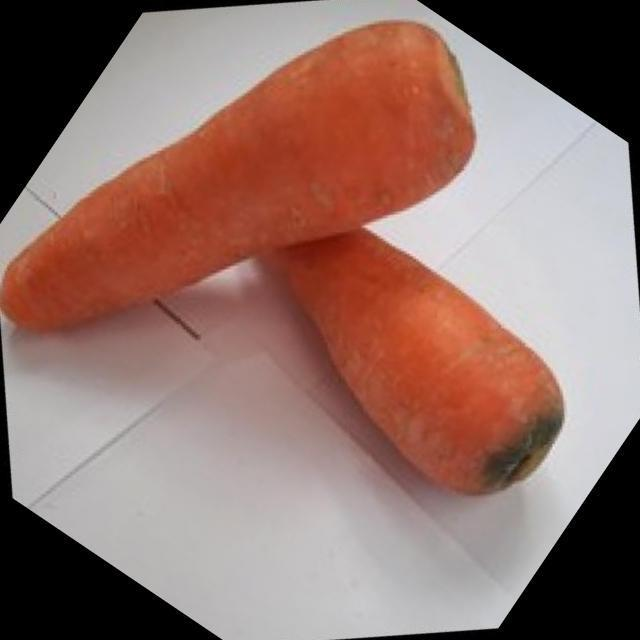carrot: (0, 21, 475, 329), (282, 230, 562, 493)
